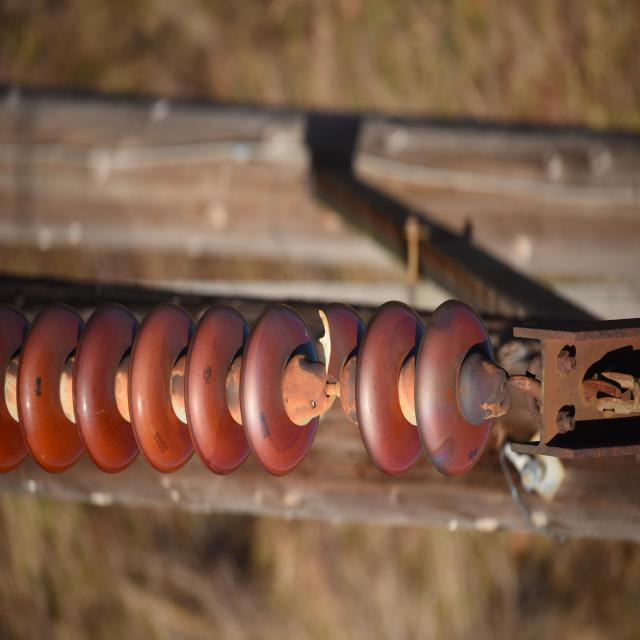broken: (316, 303, 352, 421)
insulator: (0, 302, 495, 472)
